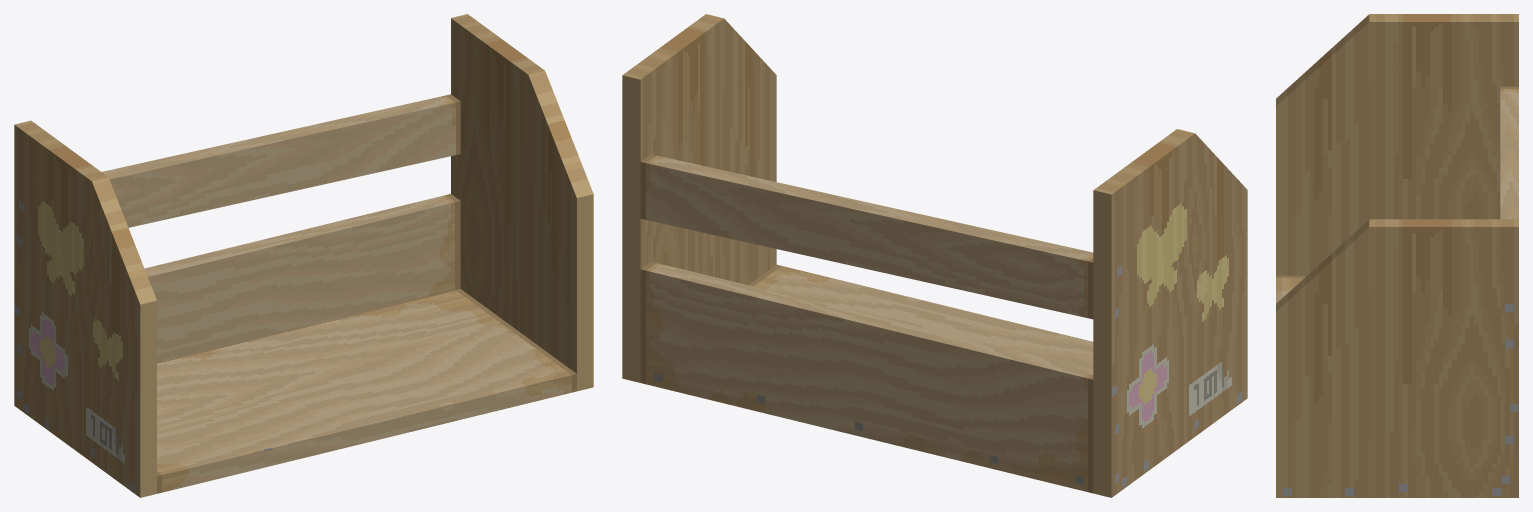
File: 0511_Bookstand.glb
3 views of the same model, side by side, from view 1: azimuth 30°, elevation 25°; view 2: azimuth 150°, elevation 25°; view 3: azimuth 270°, elevation 25° (orthographic). The views are drawn at different scales.
Parts seen in each view (by area): view 1: part_0; view 2: part_0; view 3: part_0.
Boxes of the visible parts, <box> form: part_0: <box>14,14,593,497</box>; part_0: <box>622,14,1247,497</box>; part_0: <box>1276,14,1518,497</box>.
Size of the model in its own units: 0.27 by 0.16 by 0.13.
Materials: 1 (1 with a texture image).
